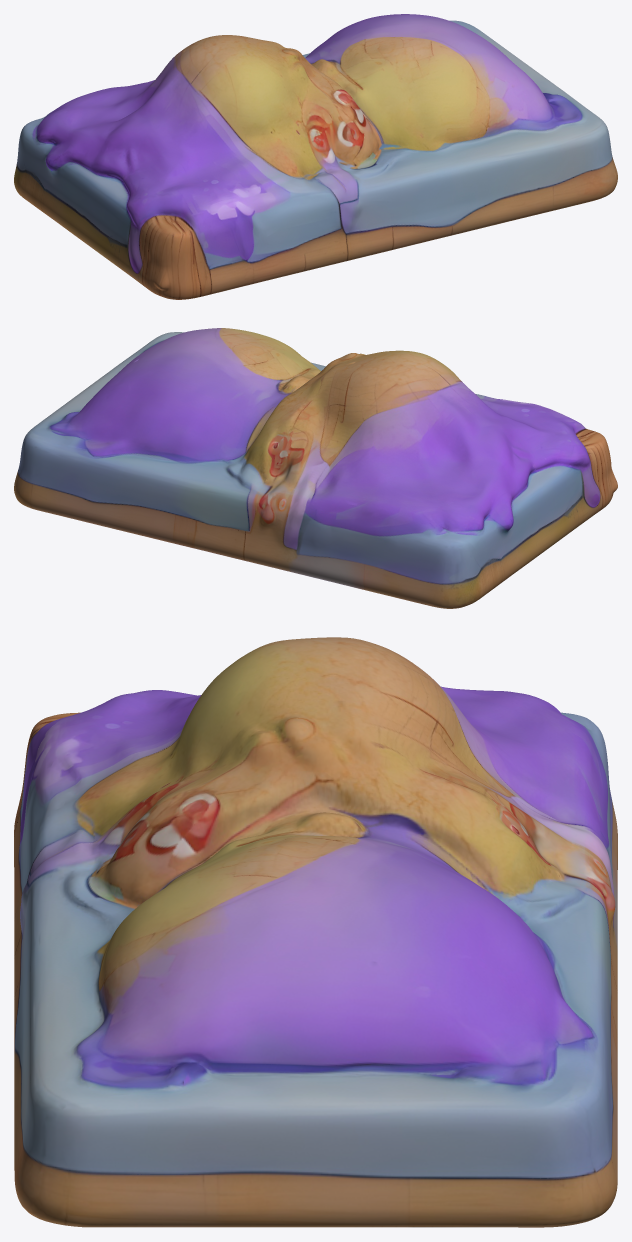
File: bed.glb
3 views of the same model, one above another, from view 1: azimuth 30°, elevation 25°; view 2: azimuth 150°, elevation 25°; view 3: azimuth 270°, elevation 25° (orthographic). The views are drawn at different scales.
Parts seen in each view (by area): view 1: textured; view 2: textured; view 3: textured.
Boxes of the visible parts, x1,y1,x2,y2 form: textured: [14, 14, 617, 299]; textured: [14, 328, 617, 608]; textured: [14, 637, 617, 1227].
Size of the model in its own units: 1.99 by 0.6737 by 1.22.
Materials: 1 (1 with a texture image).
